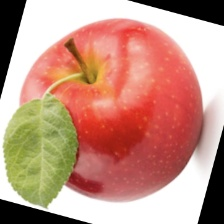apple: (44, 32, 211, 175)
